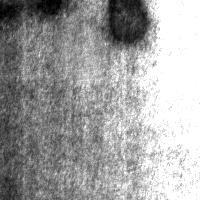patches: (46, 24, 116, 94), (104, 1, 148, 42), (1, 1, 67, 25)
